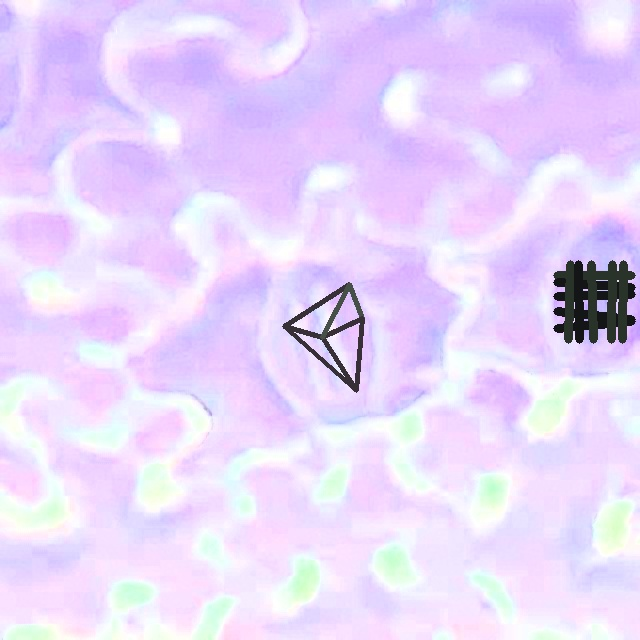open: (282, 283, 363, 391), (553, 260, 635, 343)
